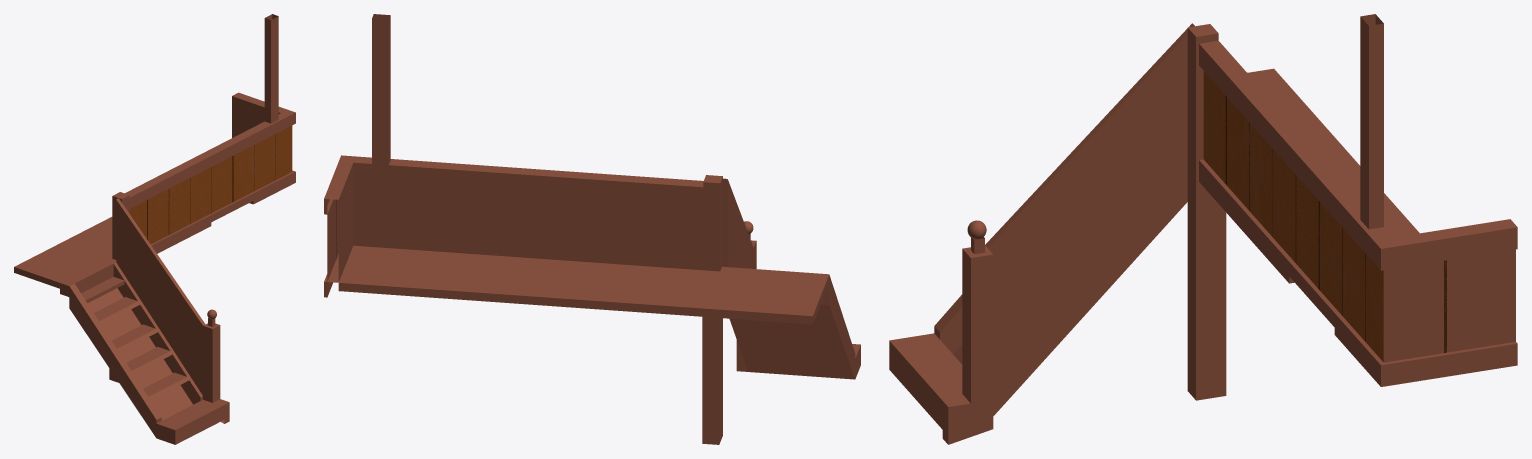
File: pavlac.dae
3 views of the same model, side by side, from view 1: azimuth 30°, elevation 25°; view 2: azimuth 150°, elevation 25°; view 3: azimuth 270°, elevation 25° (orthographic). The views are drawn at different scales.
Parts seen in each view (by area): view 1: group_0 (×9); view 2: group_0; view 3: group_0 (×9).
Part boxes in pixels (x1,y1,x2,y2): group_0 (×9): [14, 14, 295, 444]; group_0: [324, 14, 860, 444]; group_0 (×9): [889, 14, 1517, 444].
Size of the model in its own units: 172 by 154 by 154.
